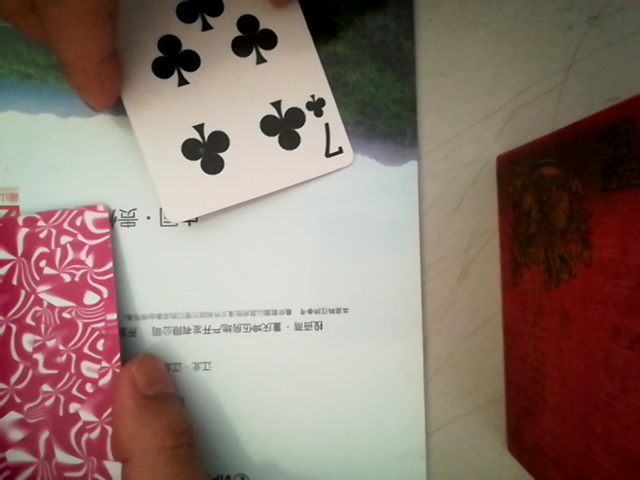mh 7: (85, 2, 342, 239)
